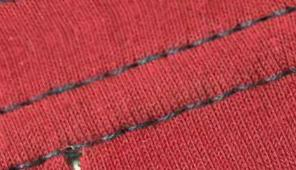hole: (64, 154, 88, 170)
